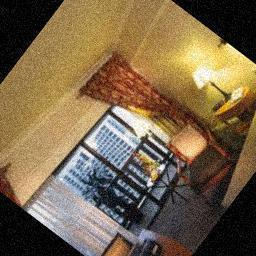Matera: (74, 161, 157, 236)
